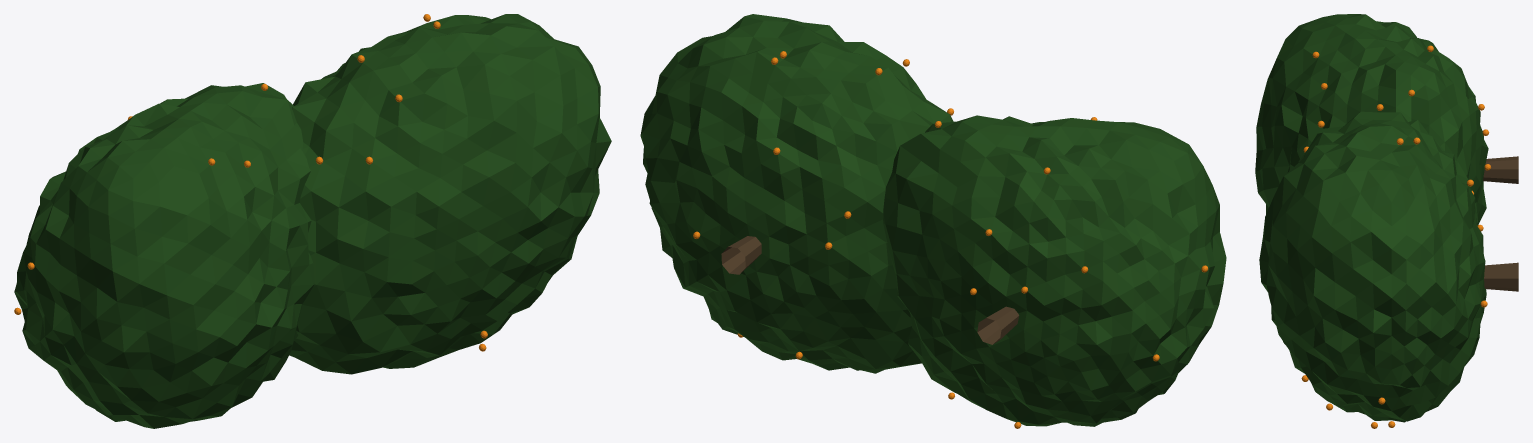
Rendered from citrus_run2_d_fruit.obj.
The picture shows the model from 3 angles, left to right: view 1: azimuth 30°, elevation 25°; view 2: azimuth 150°, elevation 25°; view 3: azimuth 270°, elevation 25°; orthographic projection. The views are drawn at different scales.
Parts seen in each view (by area): view 1: canopy, fruit; view 2: canopy, trunk, fruit; view 3: canopy, trunk, fruit.
Part boxes in pixels (<box>): canopy: <box>14,14,611,428</box>; fruit: <box>14,14,487,351</box>; canopy: <box>640,14,1226,426</box>; trunk: <box>721,236,1019,344</box>; fruit: <box>693,51,1208,428</box>; canopy: <box>1255,14,1488,422</box>; trunk: <box>1483,156,1518,291</box>; fruit: <box>1301,45,1490,428</box>.
Size of the model in its own units: 6.49 by 3.54 by 2.92.
